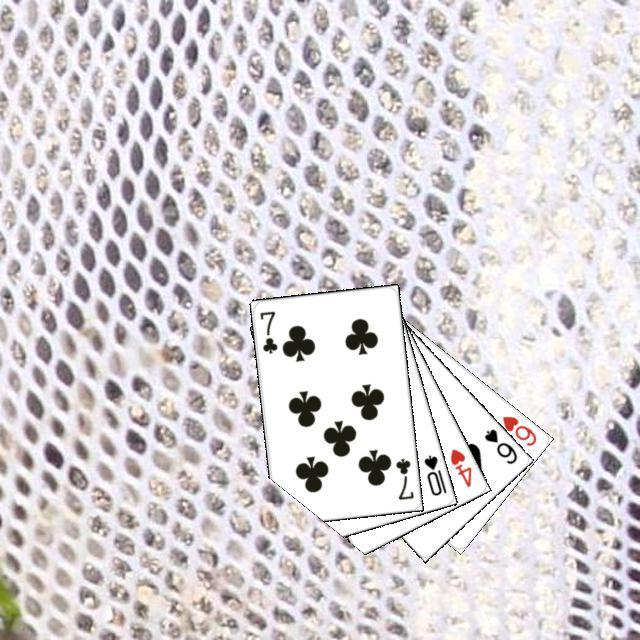10s: (419, 450, 448, 497)
4h: (445, 444, 473, 489)
6h: (497, 411, 538, 448)
6s: (479, 424, 519, 466)
7c: (255, 306, 279, 355), (391, 453, 415, 501)
